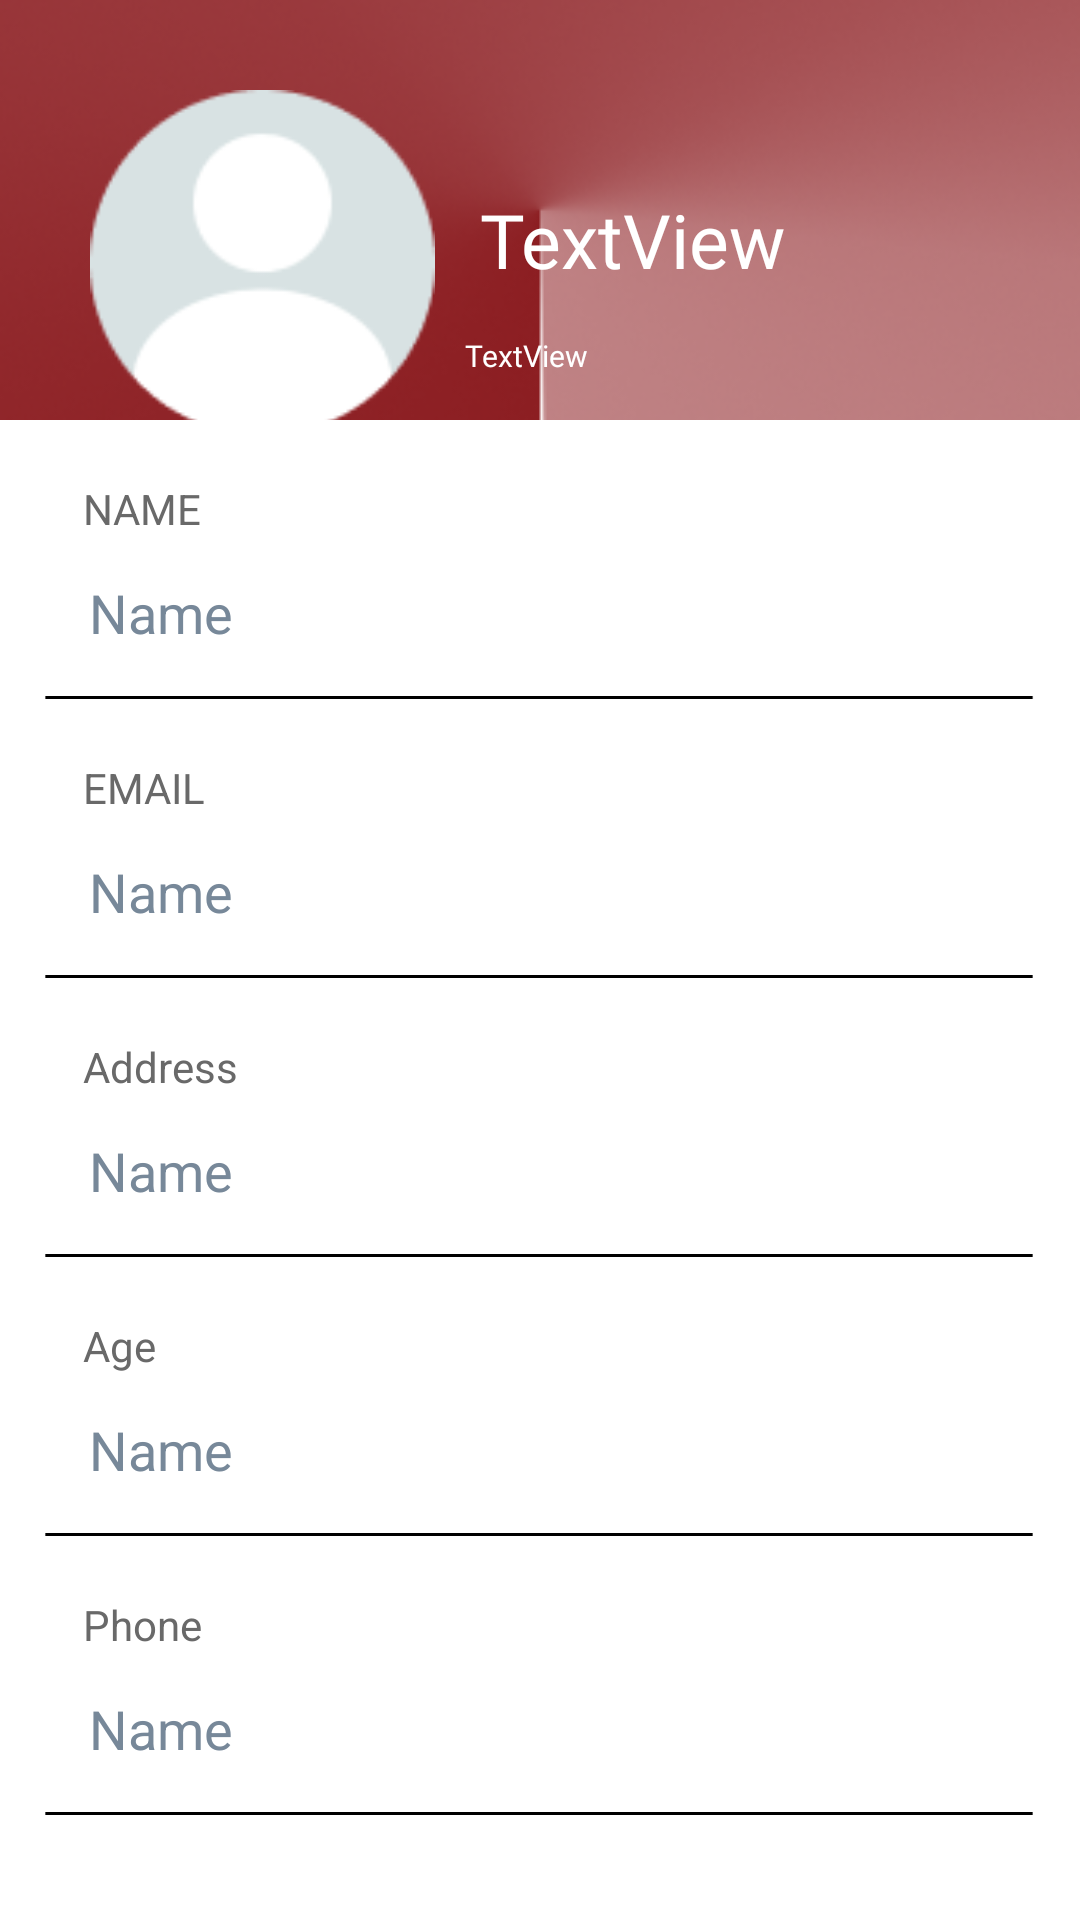

Named icons in this screenshot (1080 x 1920) and their centers, [x,y]:
user circle: [262,255]
